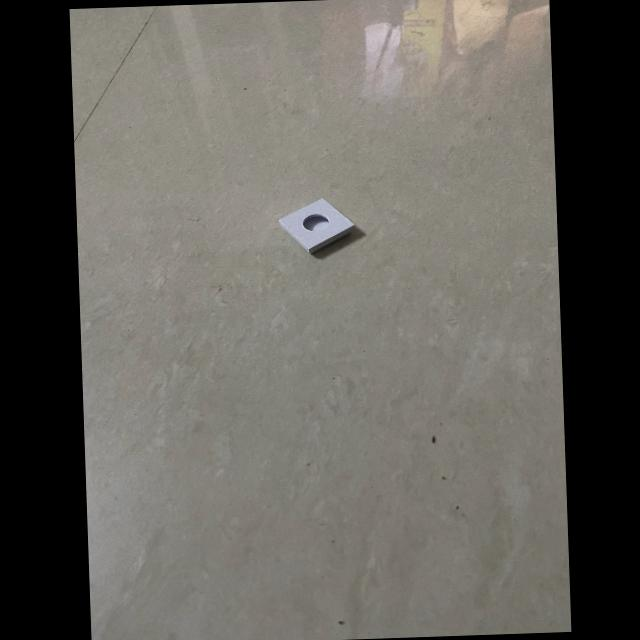RASPBERY PI CAM ENCLOSURE: (278, 196, 356, 256)
